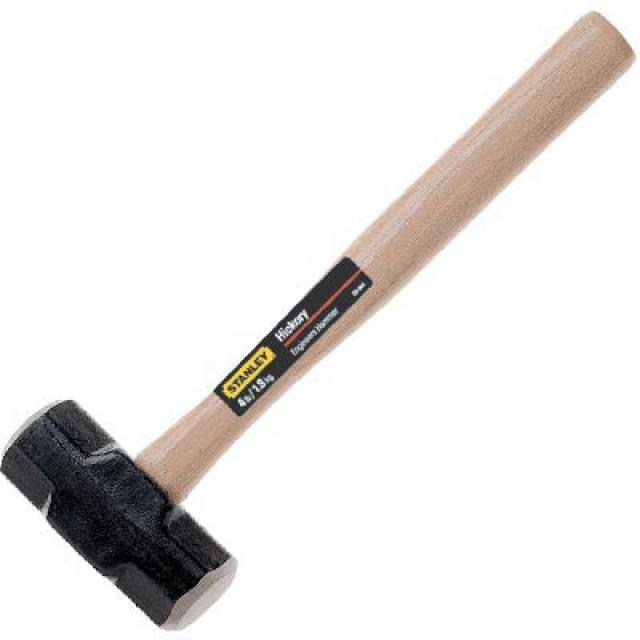hammer: (2, 9, 639, 636)
